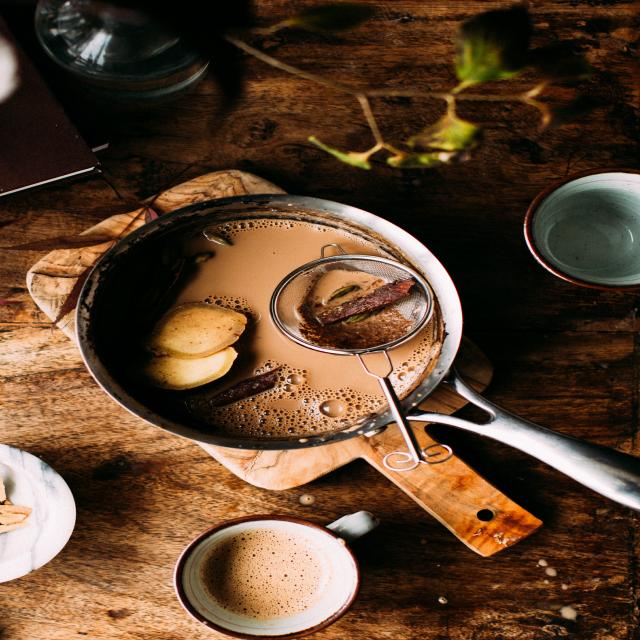Chai: (99, 215, 448, 444)
